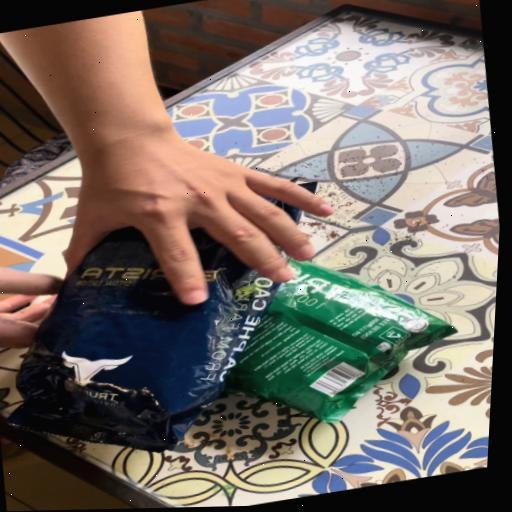cafe_hat: (8, 227, 279, 452), (271, 199, 302, 223), (300, 182, 317, 194)
cafe_xay: (229, 260, 457, 422)
